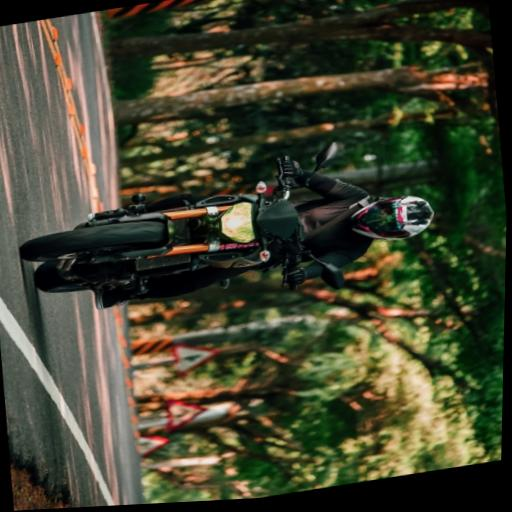Helmet: (346, 189, 438, 246)
